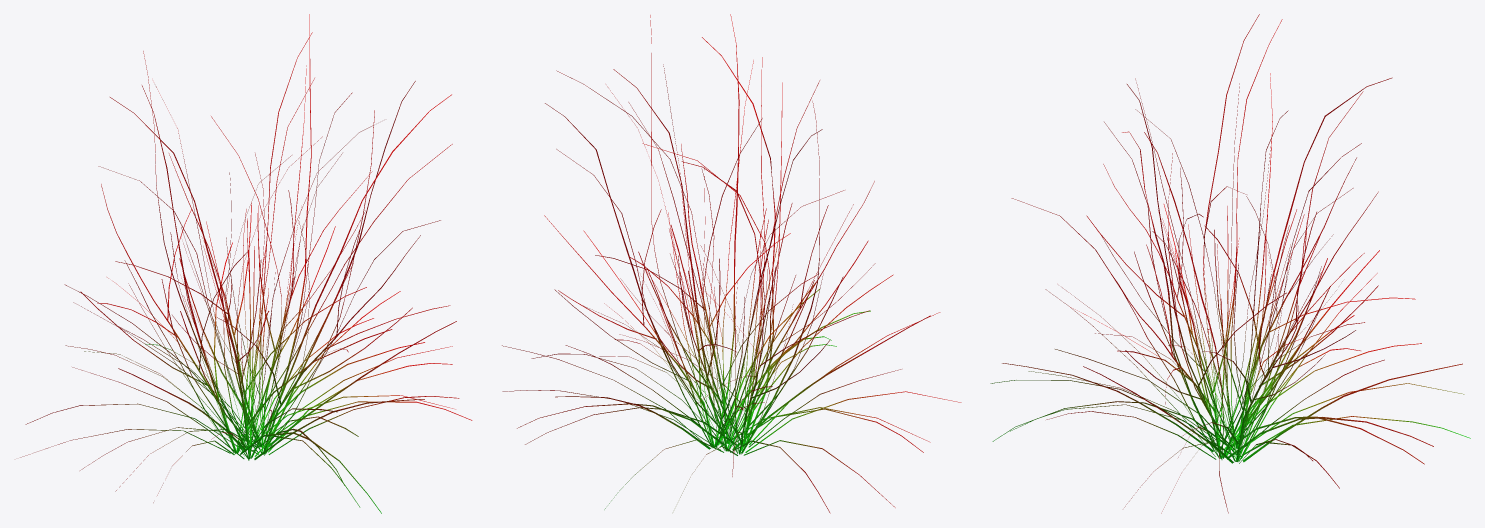
File: Xeric Grass_LOD1_Var3_xjfgdhaqx.fbx
The picture shows the model from 3 angles, left to right: view 1: azimuth 30°, elevation 25°; view 2: azimuth 150°, elevation 25°; view 3: azimuth 270°, elevation 25°; orthographic projection. The views are drawn at different scales.
Visible parts, largest first — view 1: _2p78_Var3_LOD1; view 2: _2p78_Var3_LOD1; view 3: _2p78_Var3_LOD1.
Boxes of the visible parts, bbox=[...] form: _2p78_Var3_LOD1: bbox=[20, 14, 472, 513]; _2p78_Var3_LOD1: bbox=[502, 14, 961, 513]; _2p78_Var3_LOD1: bbox=[990, 14, 1470, 513].
Size of the model in its own units: 176 by 162 by 177.
